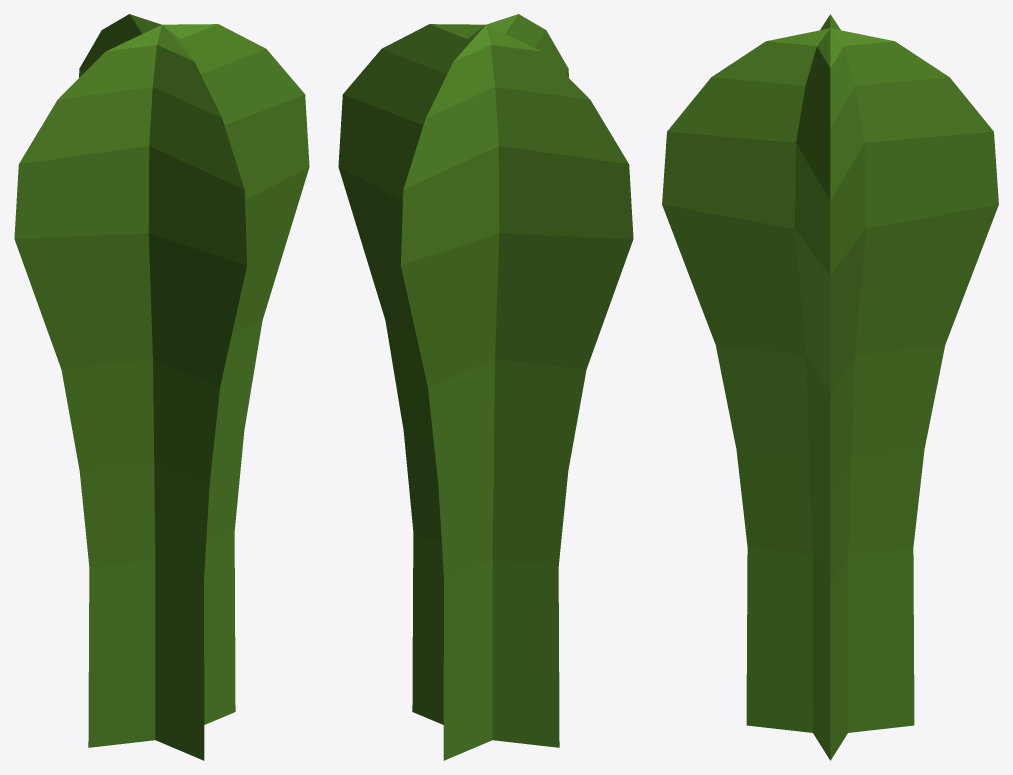
Rendered from Cactus_33_A.fbx.
3 views of the same model, side by side, from view 1: azimuth 30°, elevation 25°; view 2: azimuth 150°, elevation 25°; view 3: azimuth 270°, elevation 25° (orthographic).
Visible parts, largest first — view 1: Cactus_33_A; view 2: Cactus_33_A; view 3: Cactus_33_A.
Part boxes in pixels (x1=…): Cactus_33_A: x1=14, y1=14, x2=309, y2=760; Cactus_33_A: x1=338, y1=14, x2=633, y2=760; Cactus_33_A: x1=662, y1=14, x2=998, y2=760.
Size of the model in its own units: 65.69 by 150 by 65.69.
